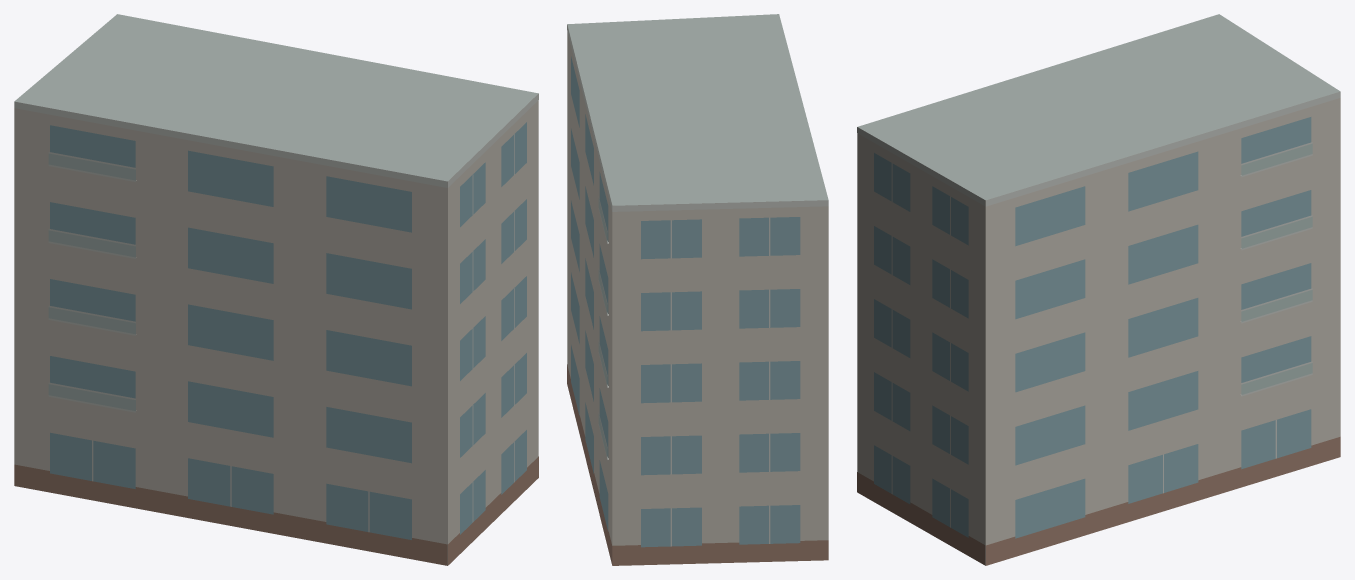
Rendered from survey-upis-32856691.glb.
3 views of the same model, side by side, from view 1: azimuth 30°, elevation 25°; view 2: azimuth 150°, elevation 25°; view 3: azimuth 270°, elevation 25° (orthographic). The views are drawn at different scales.
Parts seen in each view (by area): view 1: survey-upis-32856691.tmp; view 2: survey-upis-32856691.tmp; view 3: survey-upis-32856691.tmp.
Boxes of the visible parts, x1,y1,x2,y2 form: survey-upis-32856691.tmp: (14,14,538,565); survey-upis-32856691.tmp: (567,14,828,565); survey-upis-32856691.tmp: (857,14,1340,565).
Size of the model in its own units: 15.6 by 14.25 by 17.09.
